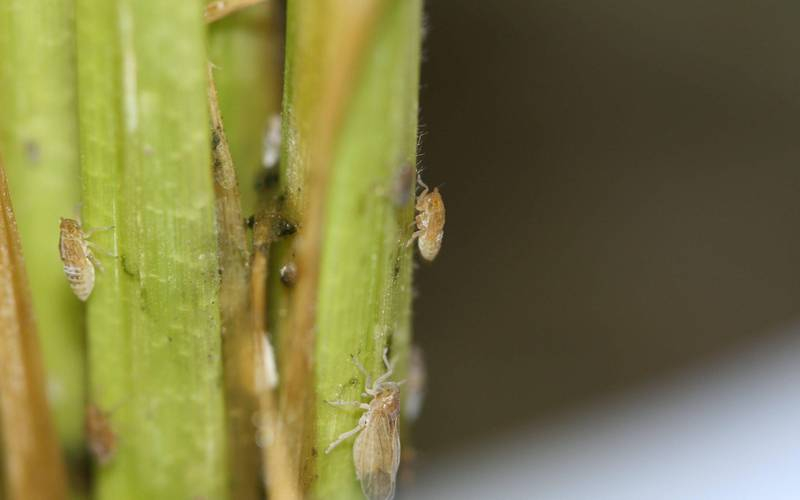Delphacidae: (321, 344, 402, 500), (55, 216, 114, 303), (404, 172, 445, 265)
